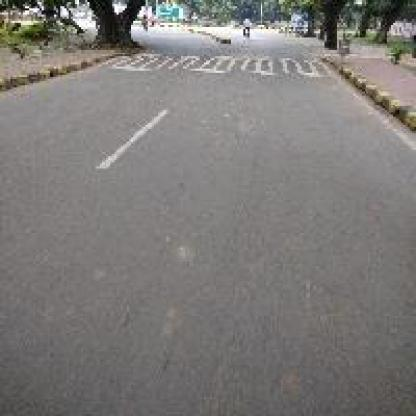Speed Bump: (96, 48, 337, 77)
